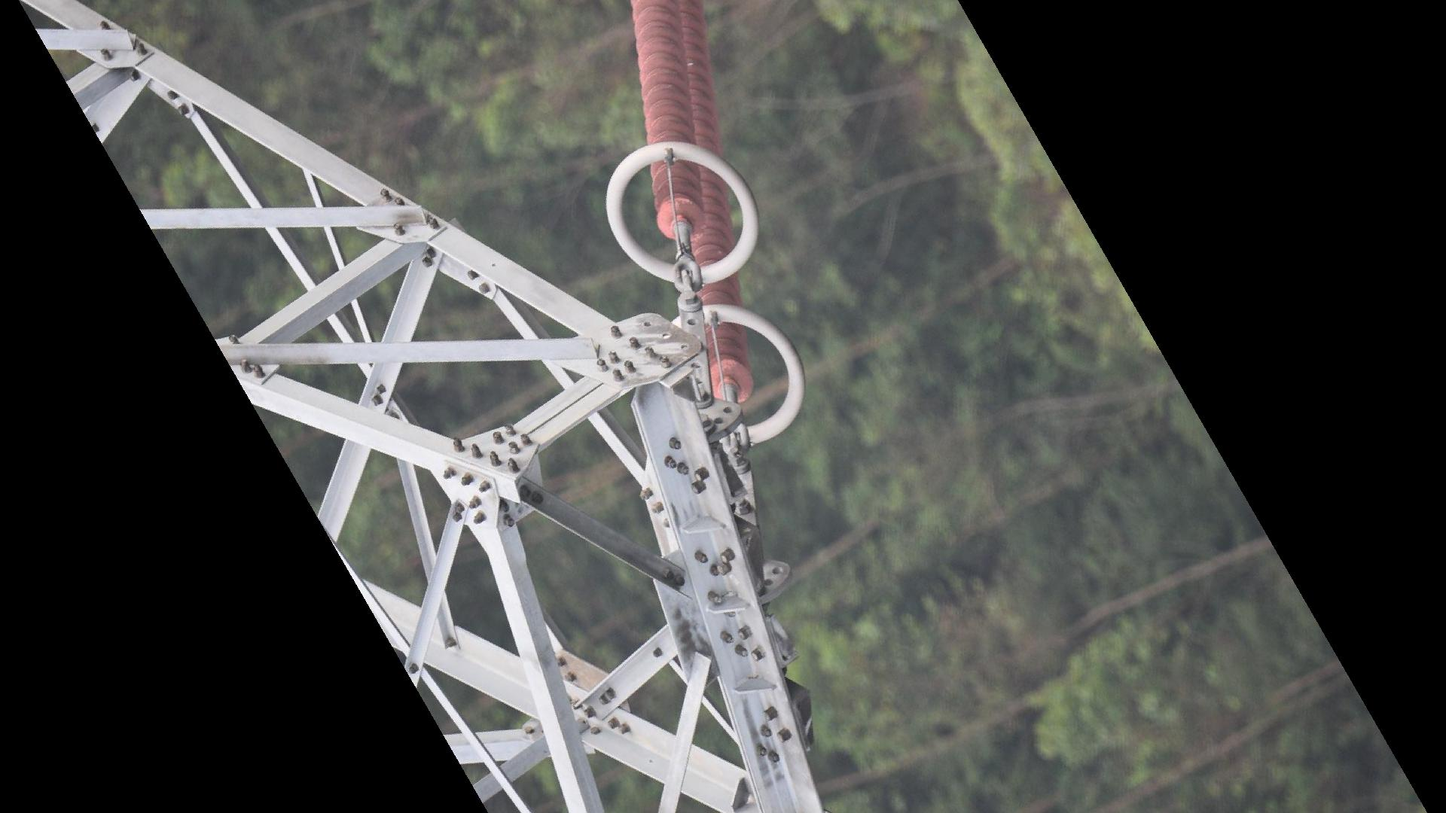insulator: (626, 1, 761, 411)
